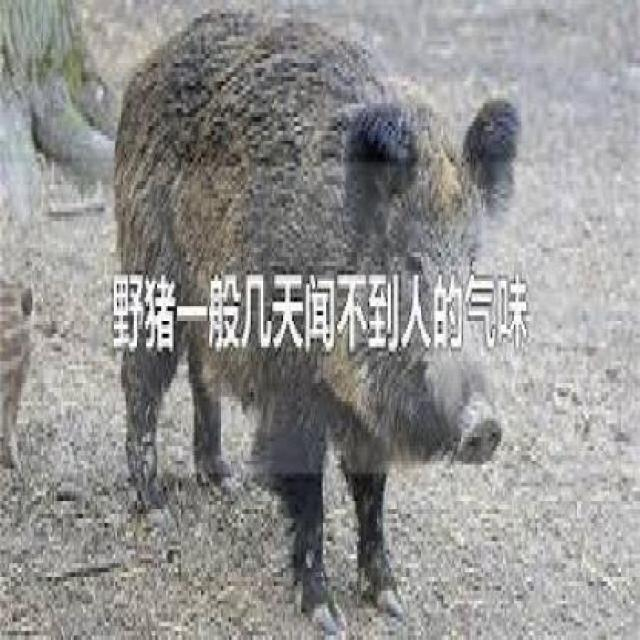wildboar: (106, 0, 526, 626), (0, 265, 38, 486)
